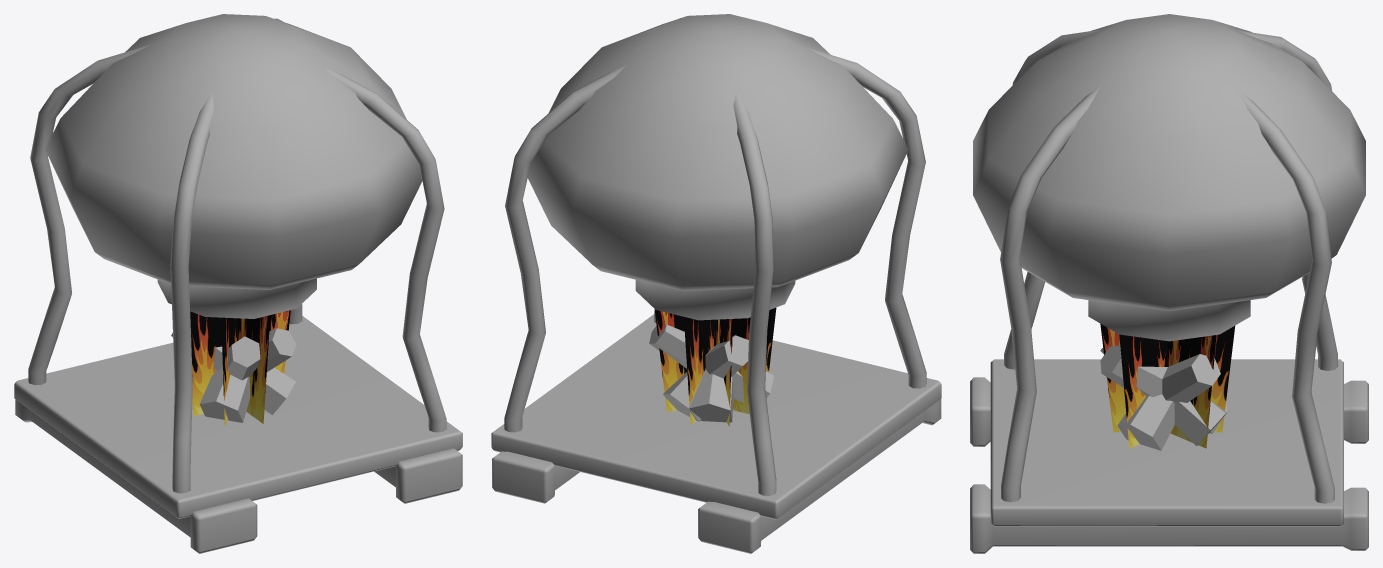
The model's file is floating_dock.fbx.
3 views of the same model, side by side, from view 1: azimuth 30°, elevation 25°; view 2: azimuth 150°, elevation 25°; view 3: azimuth 270°, elevation 25° (orthographic). The views are drawn at different scales.
Parts seen in each view (by area): view 1: floating_dock; view 2: floating_dock; view 3: floating_dock.
Part boxes in pixels (bbox=[...]): floating_dock: bbox=[14, 14, 462, 553]; floating_dock: bbox=[491, 14, 941, 553]; floating_dock: bbox=[970, 14, 1368, 553].
Size of the model in its own units: 235 by 284 by 226.
